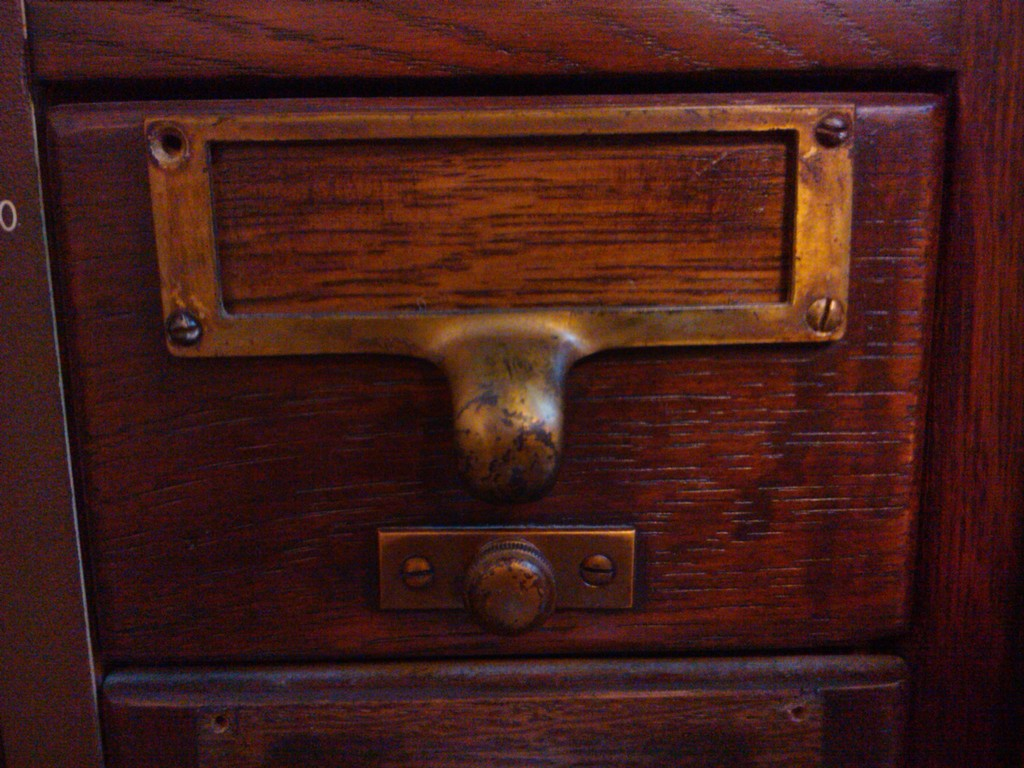cabinet door: (60, 119, 921, 644)
handle: (457, 542, 562, 647)
